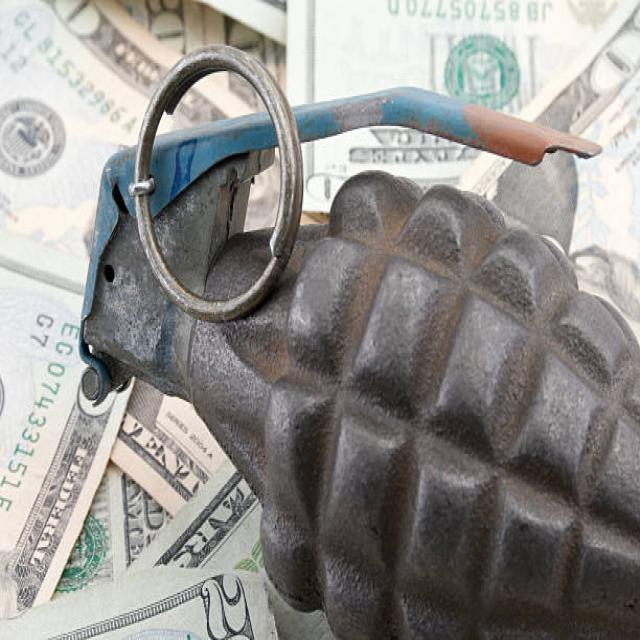grenade: (72, 32, 640, 640)
